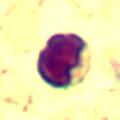monocyte: (32, 30, 99, 90)
